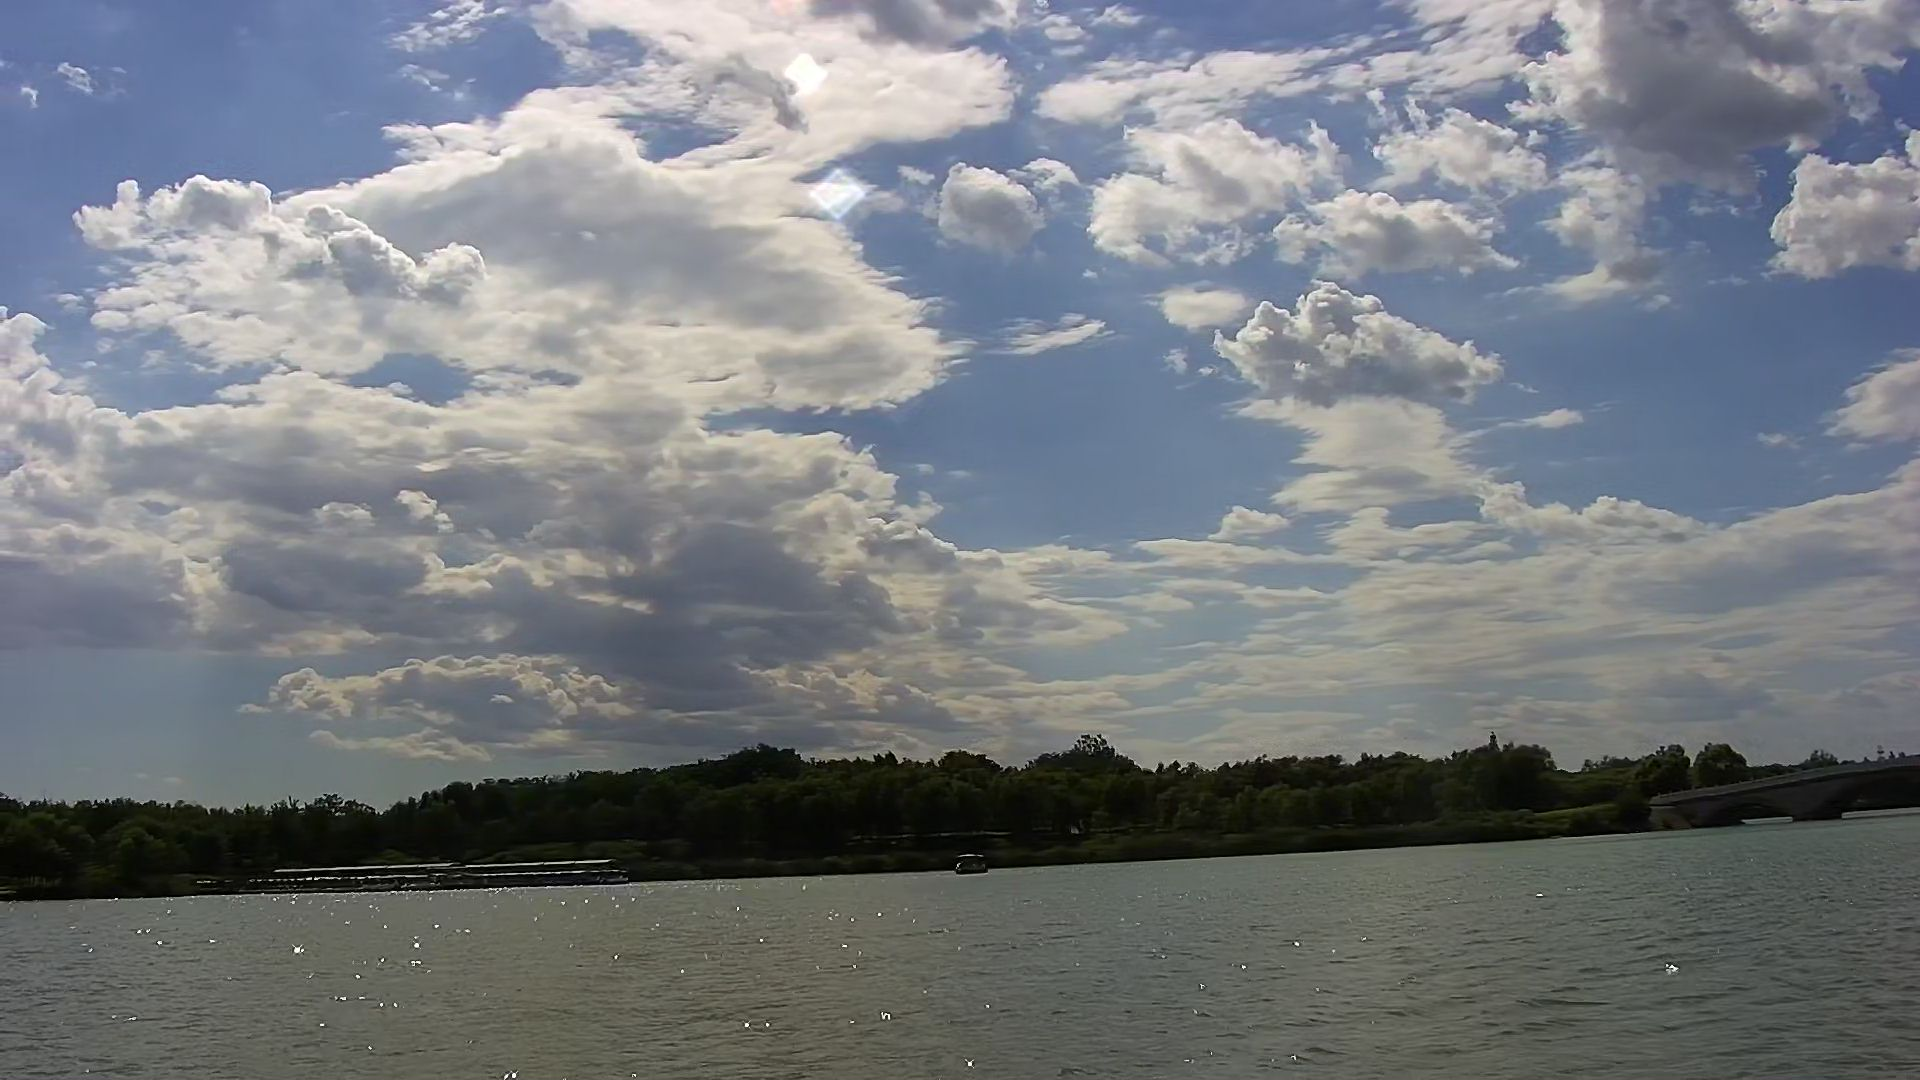boat: (947, 844, 993, 880)
bridge: (1634, 752, 1920, 829)
harbor: (264, 851, 625, 897)
